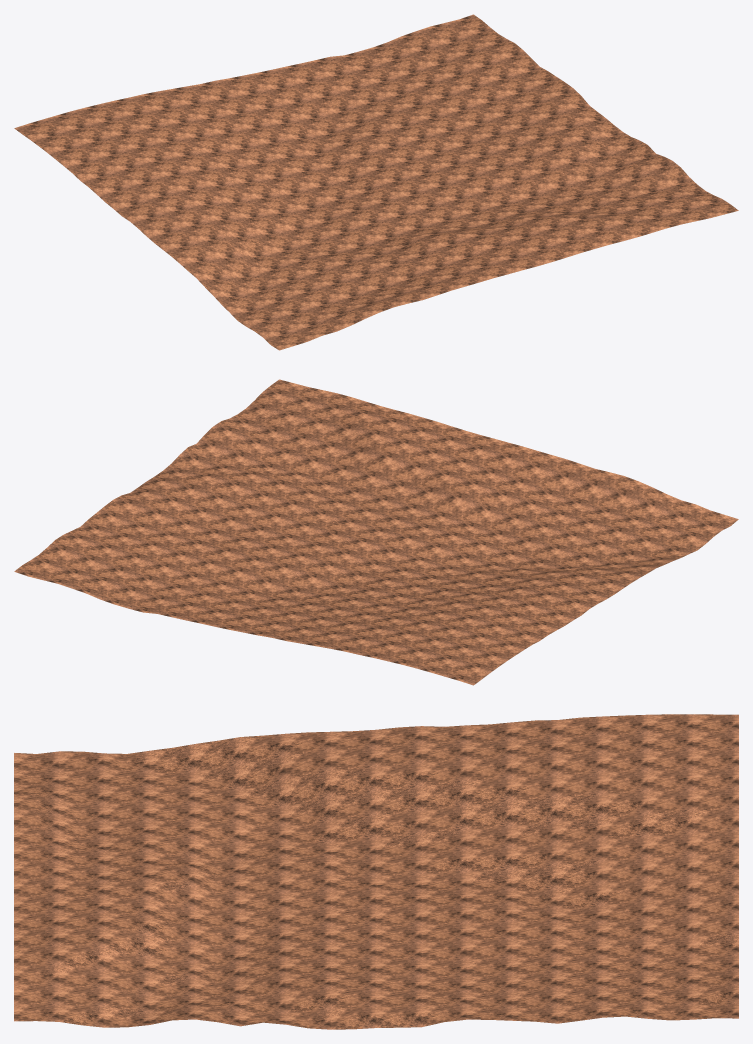
Rendered from terrain_06_11.dae.
The picture shows the model from 3 angles, top to bottom: view 1: azimuth 30°, elevation 25°; view 2: azimuth 150°, elevation 25°; view 3: azimuth 270°, elevation 25°; orthographic projection. The views are drawn at different scales.
Visible parts, largest first — view 1: terrain_06_11-node; view 2: terrain_06_11-node; view 3: terrain_06_11-node.
Part boxes in pixels (box(x1,y1,x2,y2)): terrain_06_11-node: box(14, 14, 738, 350); terrain_06_11-node: box(14, 379, 738, 685); terrain_06_11-node: box(14, 714, 738, 1029).
Bounding box in the file's own units: 128 × 128 × 8.56.
1 material, 1 textured.
